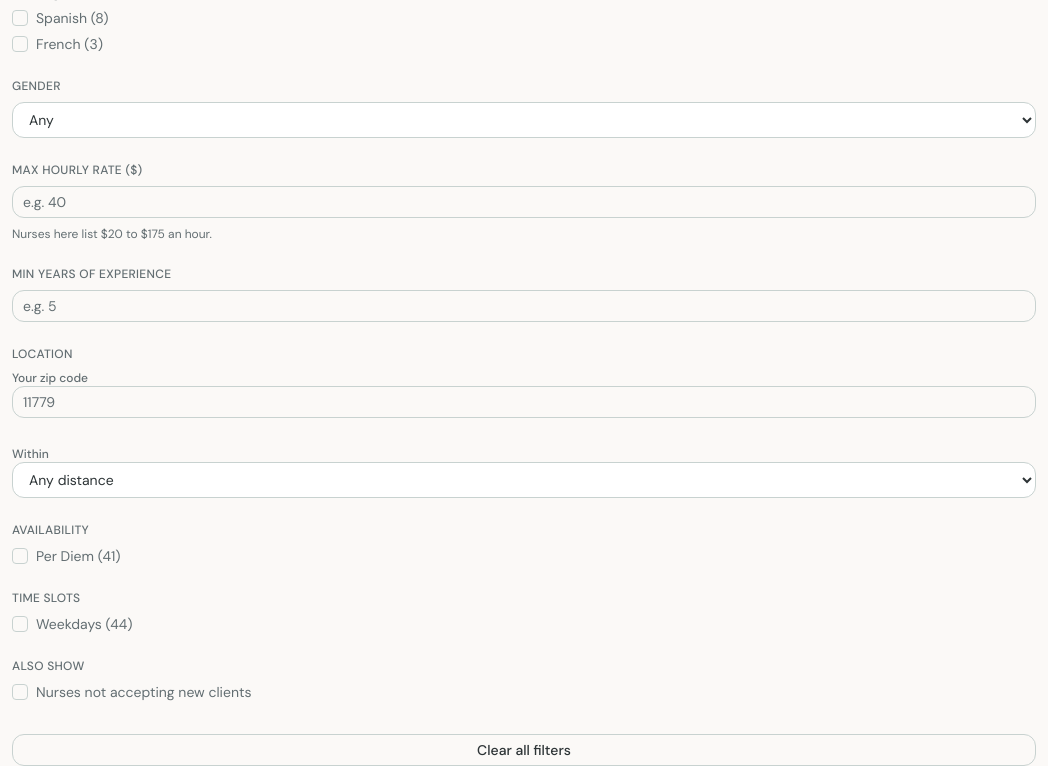
Test: FilterPanel free text inputs › hints that a partial zip is not filtering, and clears the hint at five digits
(page scrolled)
Expected: the text "enter all 5 digits" is not shown
# Partial: the field is not committing a filter, so surface that.
Type "117" into the field labelled "Your zip code". click: (524, 402)
box: x1=12 y1=386 x2=1036 y2=418
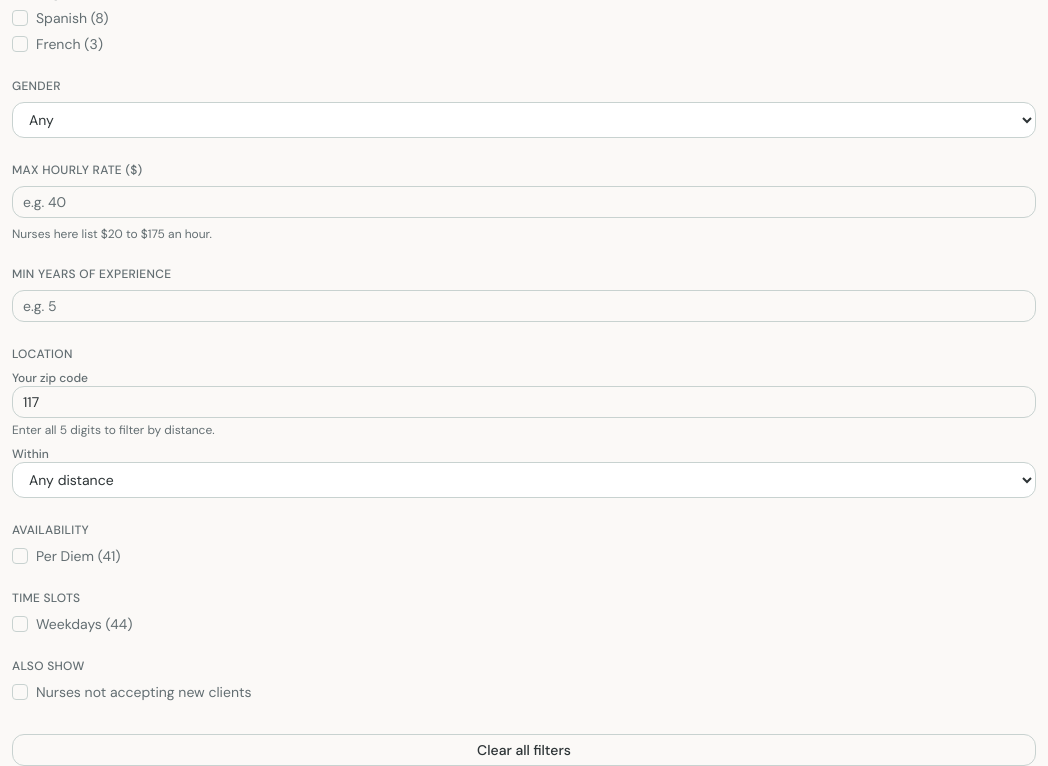
Now the text "Enter all 5 digits to filter by distance." is shown, box x1=12 y1=422 x2=215 y2=438
# Five digits: the filter commits, so the hint goes away.
Replace the text in the field labelled "Your zip code" with "11779". click: (524, 402)
box: x1=12 y1=386 x2=1036 y2=418
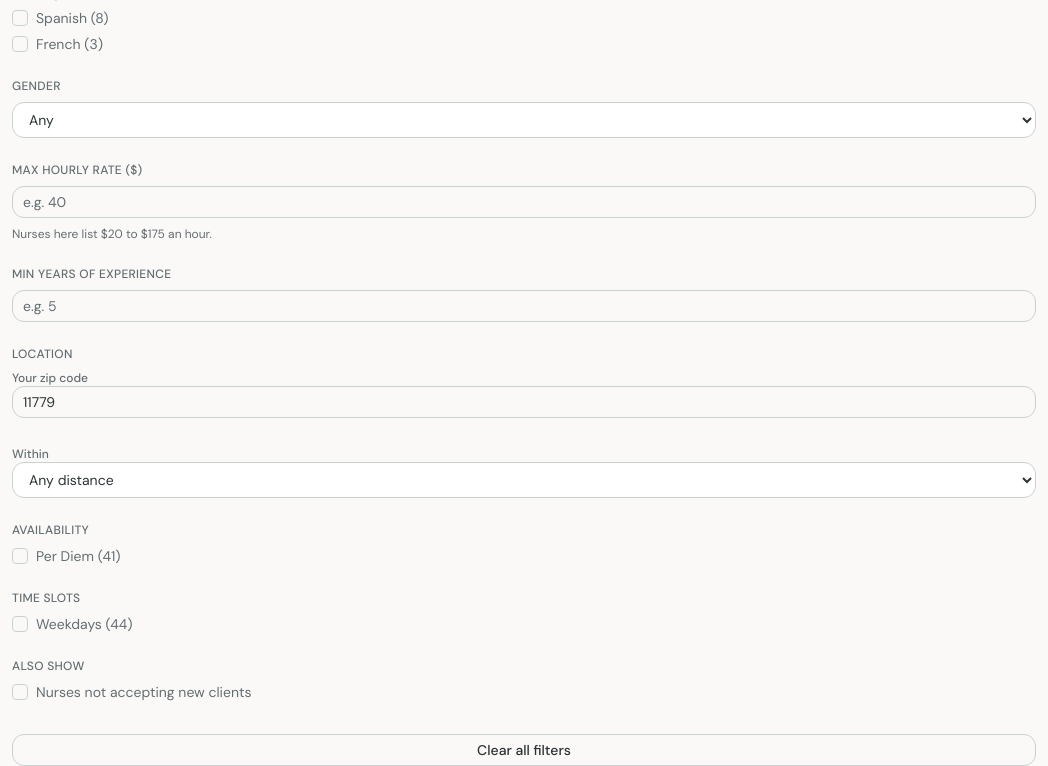
Now the text "Enter all 5 digits" is gone
